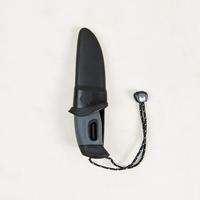knife: (67, 27, 111, 160)
